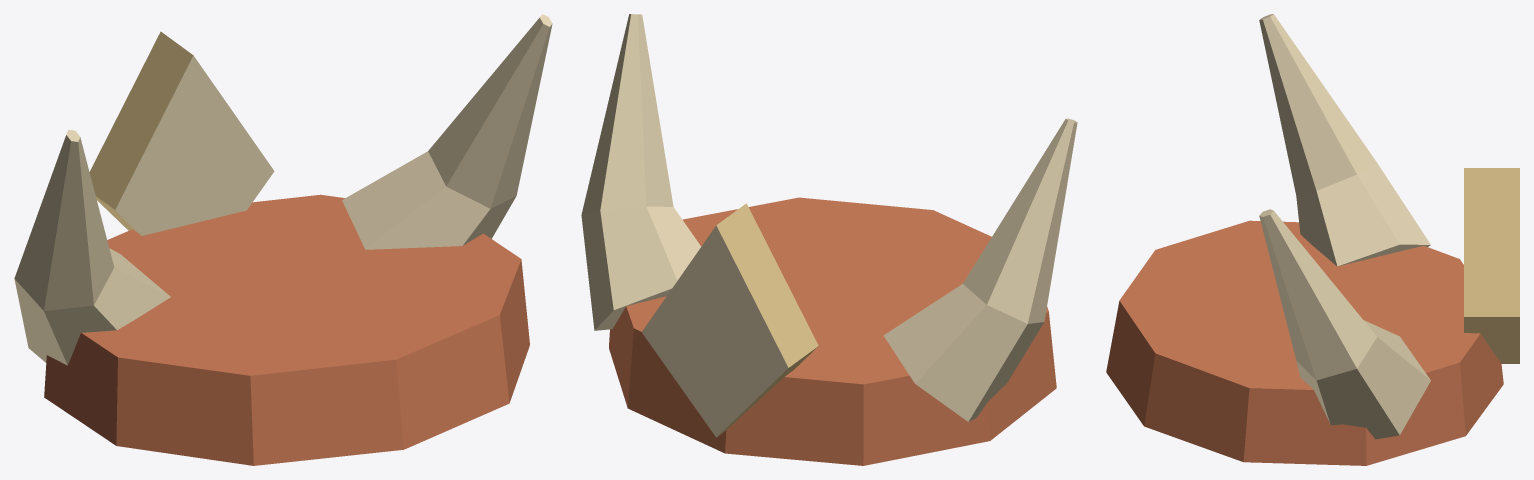
File: bone_crown.glb
3 renders of one model, left to right at view 1: azimuth 30°, elevation 25°; view 2: azimuth 150°, elevation 25°; view 3: azimuth 270°, elevation 25°, orthographic. The views are drawn at different scales.
Visible parts, largest first — view 1: bone_crown; view 2: bone_crown; view 3: bone_crown.
Part boxes in pixels (x1,y1,x2,y2): bone_crown: (14,14,552,465); bone_crown: (581,14,1077,465); bone_crown: (1106,14,1519,465).
Size of the model in its own units: 0.3584 by 0.2263 by 0.3119.
